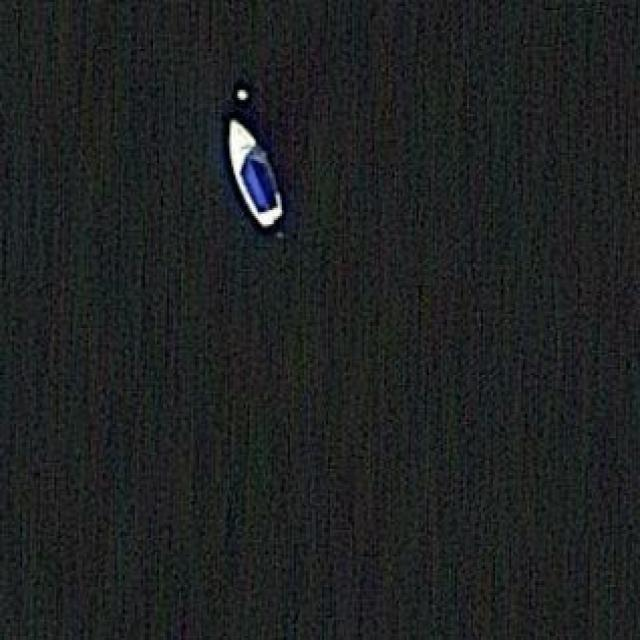ship: (228, 114, 288, 226)
